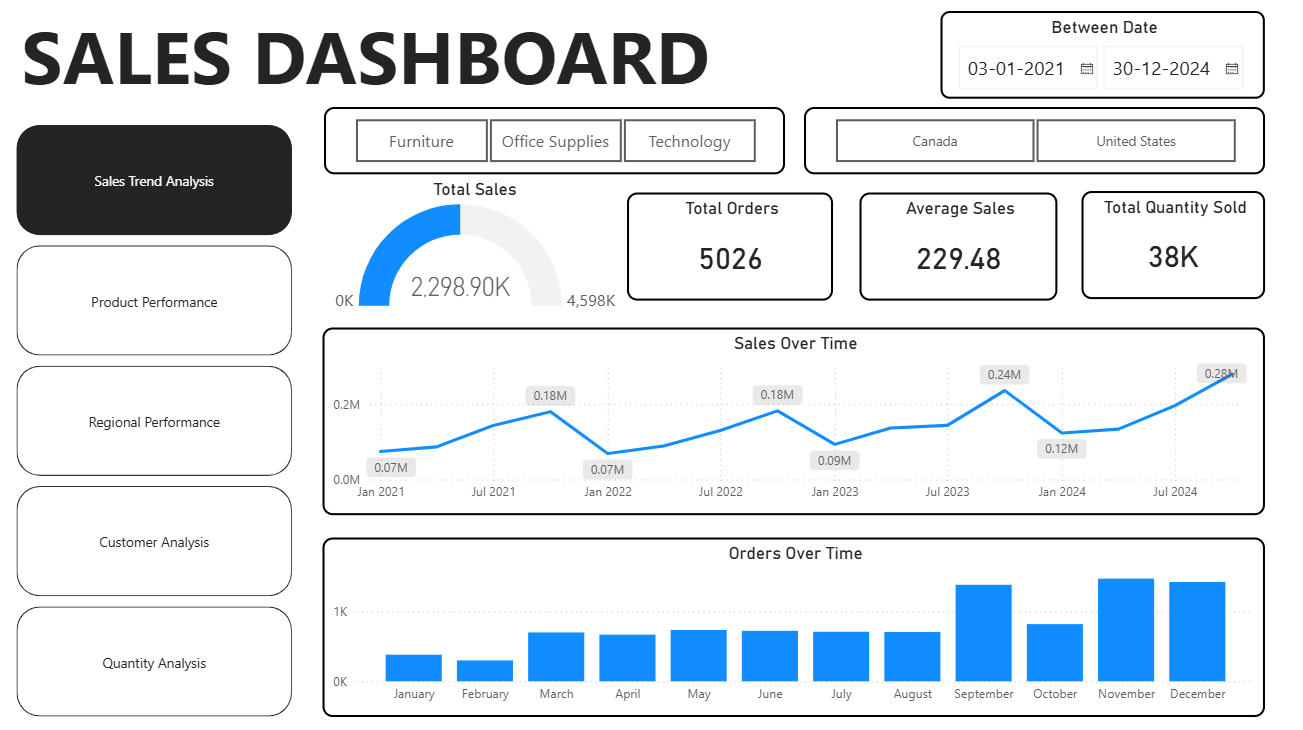

What the dashboard file says about the page in this screenshot:
{"tool":"powerbi","page":{"name":"Sales Trend Analysis","canvas":[1280,720],"ordinal":0},"visuals":[{"type":"textbox","box":[16,0,884,106],"z":0},{"type":"pageNavigator","box":[16,124,270,580],"z":1000},{"type":"gauge","title":"Total Sales","fields":{"Y":["Sum(Sales Overview Data xlsx - Sales Data.Sales)"]},"box":[318,176,296,134],"z":2000},{"type":"card","title":"Total Orders","fields":{"Values":["Count(Sales Overview Data xlsx - Sales Data.Order ID)"]},"box":[614,190,202,106],"z":3000},{"type":"card","title":"Average Sales","fields":{"Values":["Avg(Sales Overview Data xlsx - Sales Data.Sales)"]},"box":[842,190,194,106],"z":4000},{"type":"card","title":"Total Quantity Sold","fields":{"Values":["Sum(Sales Overview Data xlsx - Sales Data.Quantity)"]},"box":[1060,188,180,106],"z":5000},{"type":"lineChart","title":"Sales Over Time","fields":{"Category":["Sales Overview Data xlsx - Sales Data.Order Date.Variation.Date Hierarchy.Year","Sales Overview Data xlsx - Sales Data.Order Date.Variation.Date Hierarchy.Quarter"],"Y":["Sum(Sales Overview Data xlsx - Sales Data.Sales)"]},"box":[316,322,924,184],"z":6000},{"type":"columnChart","title":"Orders Over Time","fields":{"Category":["Sales Overview Data xlsx - Sales Data.Order Date.Variation.Date Hierarchy.Month"],"Y":["CountNonNull(Sales Overview Data xlsx - Sales Data.Order ID)"]},"box":[316,528,924,176],"z":7000},{"type":"slicer","fields":{"Values":["Sales Overview Data xlsx - Sales Data.Category"]},"box":[317.3,105.3,452,66],"z":8000},{"type":"slicer","fields":{"Values":["Sales Overview Data xlsx - Sales Data.Country/Region"]},"box":[788,106,452,66],"z":9000},{"type":"slicer","title":"Between Date","fields":{"Values":["Sales Overview Data xlsx - Sales Data.Order Date"]},"box":[922,12,318,86],"z":10000}]}

Visuals, with their boxes in screenshot pixels (x1, y1, x2, y2), scaled from the page's 1280x720 canvas onto the 1303x730 screenshot:
textbox: [x1=16, y1=0, x2=916, y2=107]
pageNavigator: [x1=16, y1=126, x2=291, y2=714]
"Total Sales" gauge: [x1=324, y1=178, x2=625, y2=314]
"Total Orders" card: [x1=625, y1=193, x2=831, y2=300]
"Average Sales" card: [x1=857, y1=193, x2=1055, y2=300]
"Total Quantity Sold" card: [x1=1079, y1=191, x2=1262, y2=298]
"Sales Over Time" lineChart: [x1=322, y1=326, x2=1262, y2=513]
"Orders Over Time" columnChart: [x1=322, y1=535, x2=1262, y2=714]
slicer - Sales Overview Data xlsx - Sales Data.Category: [x1=323, y1=107, x2=783, y2=174]
slicer - Sales Overview Data xlsx - Sales Data.Country/Region: [x1=802, y1=107, x2=1262, y2=174]
"Between Date" slicer: [x1=939, y1=12, x2=1262, y2=99]
